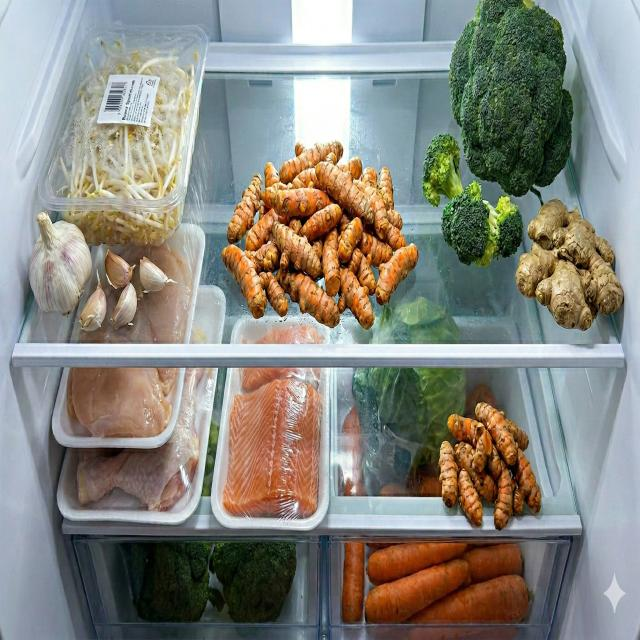bean_sprouts: (56, 38, 196, 247)
brocolli: (422, 0, 573, 268), (214, 540, 298, 623)
cabbage: (370, 296, 468, 481)
carrot: (342, 543, 529, 626)
chicken: (76, 324, 207, 512), (72, 243, 192, 439)
fish: (222, 366, 322, 519)
garlic: (80, 248, 168, 333), (29, 212, 93, 315)
ginger: (516, 198, 624, 330)
turmeric: (221, 140, 419, 328), (439, 400, 542, 529)
